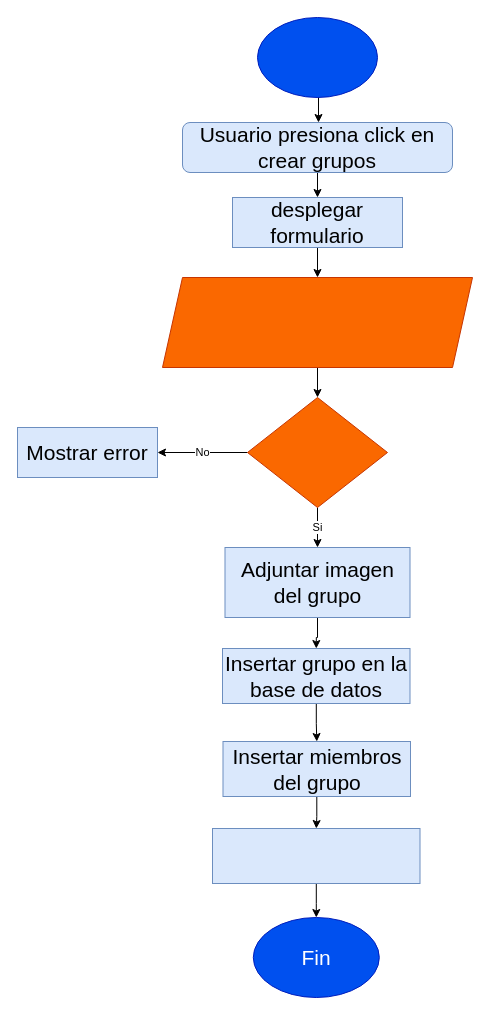
The diagram is 490 pixels wide and 1015 high, and some of its shapes have lost their labels. Here are the shapes that lost their labels. From the top down, the centre of each, then its label:
pixel 317 57: inicio
pixel 317 322: Insertar: Nombre del grupo, Imagen, miembros mediante checkbox (opcional)
pixel 317 452: Campos llenos
pixel 316 856: Mostrar mensaje de exito
